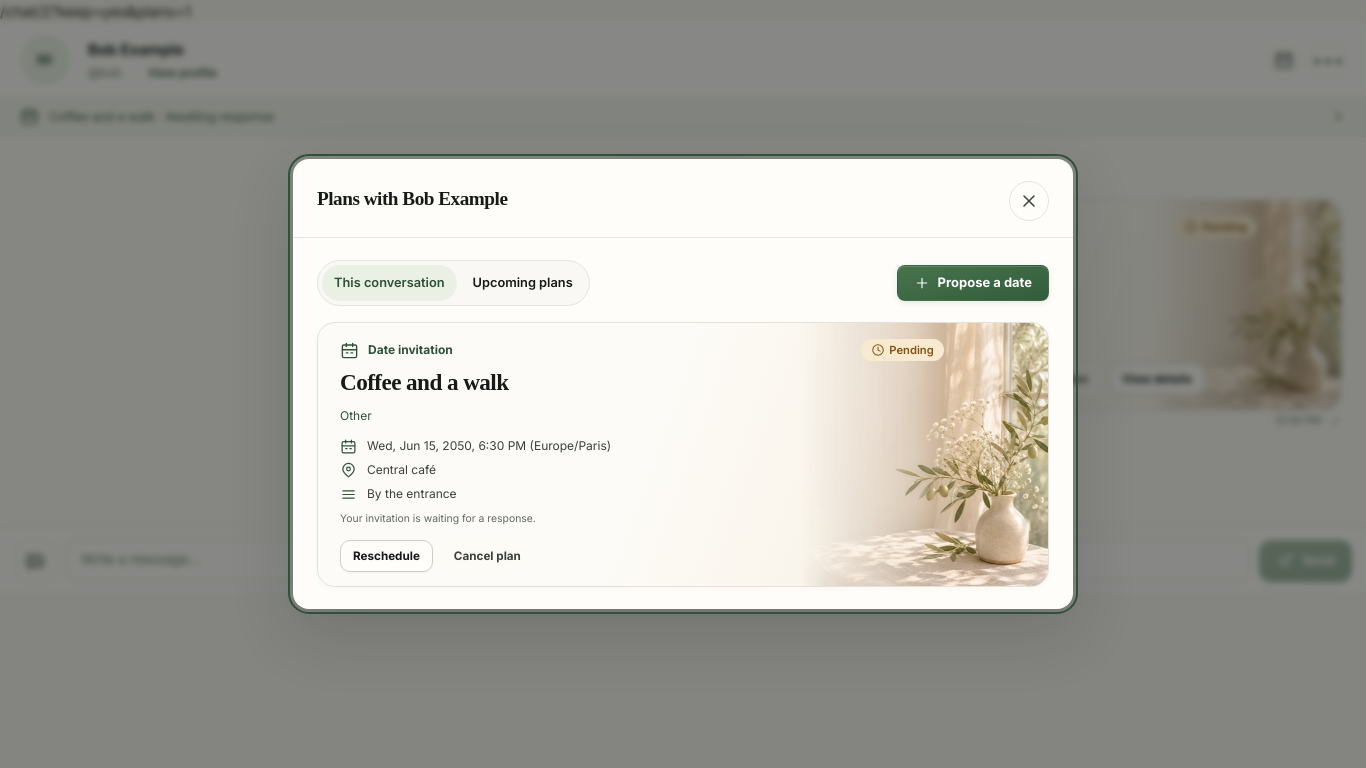
Scenario: date-message buttons open, close and reopen the planner (notification link: true)
Expected: the dialog "Plans with Bob Example" is shown, [293,159,1073,609]
Click the button named "Close dialog" at (1029, 201), box [1009,181,1049,221]
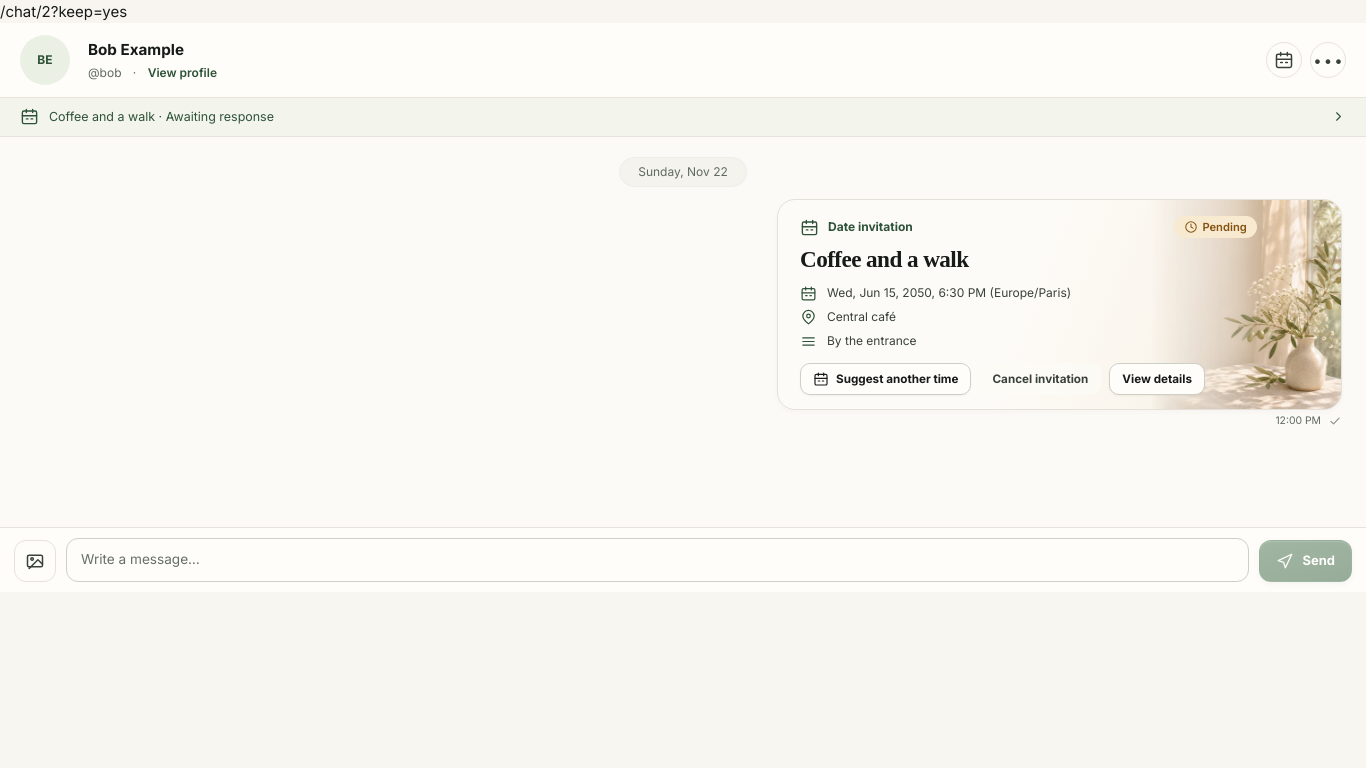
Click the button "View details" at (1157, 379), box [1109,363,1205,395]
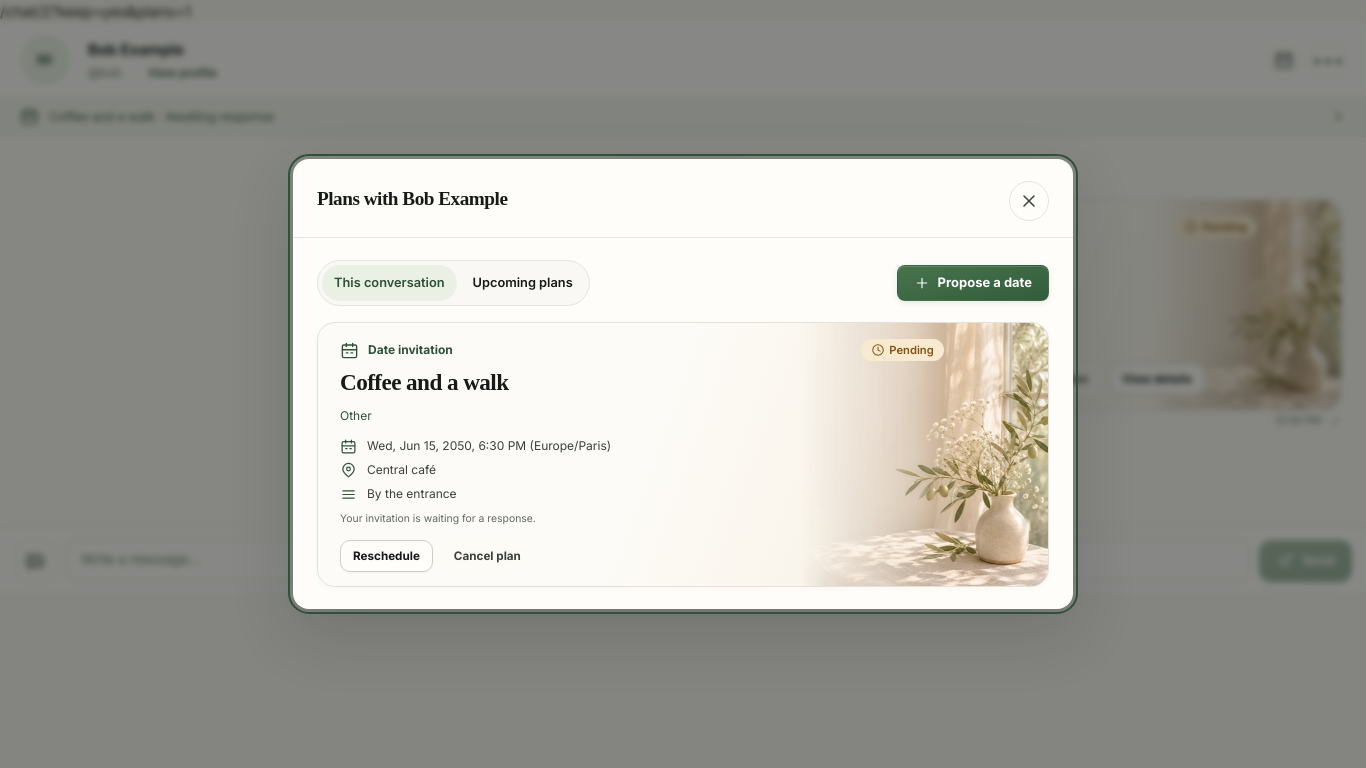
Now the dialog "Plans with Bob Example" is shown, box [293,159,1073,609]
Now the text "/chat/2?keep=yes&plans=1" is shown, box [0,2,191,21]
Click the button named "Close dialog" at (1029, 201), box [1009,181,1049,221]
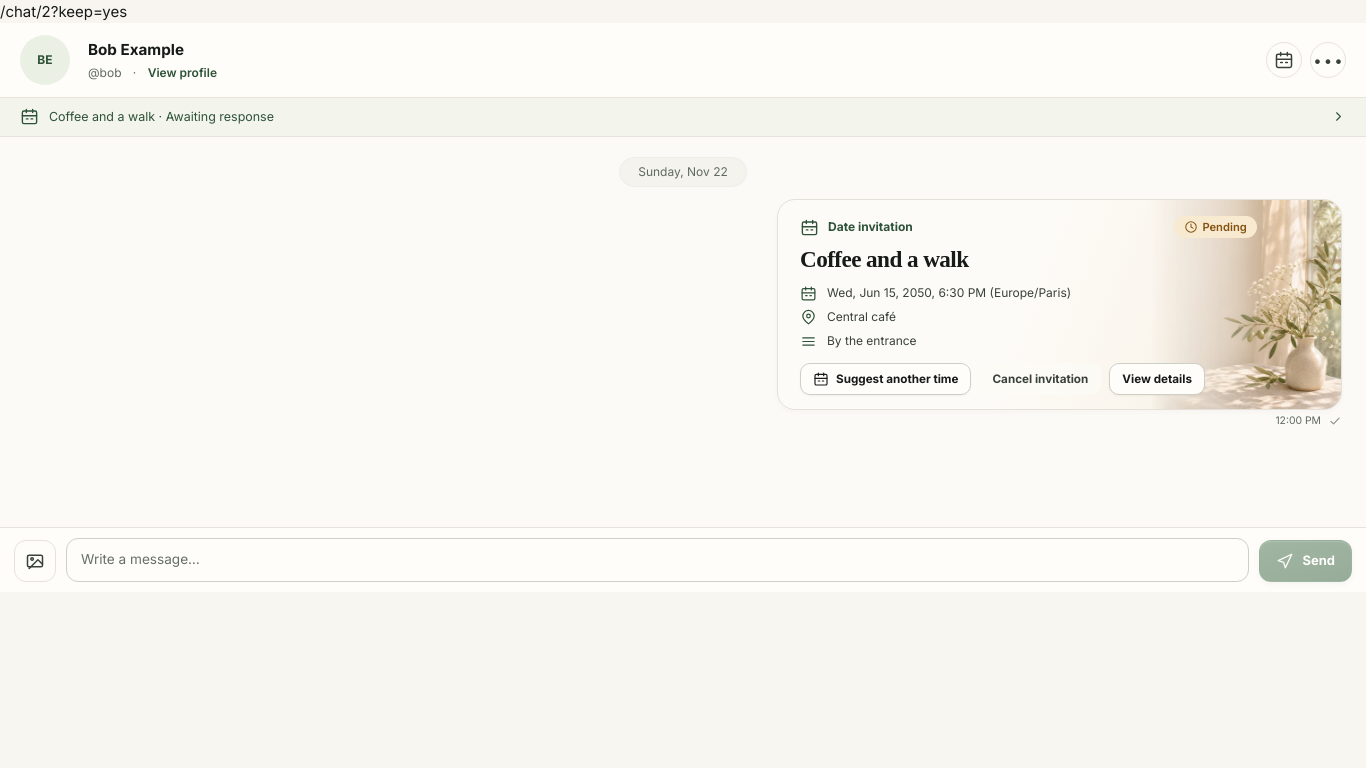
Expected: the text "/chat/2?keep=yes" is shown, [0,2,127,21]
Now the dialog is gone
Click the button "View details" at (1157, 379), box [1109,363,1205,395]
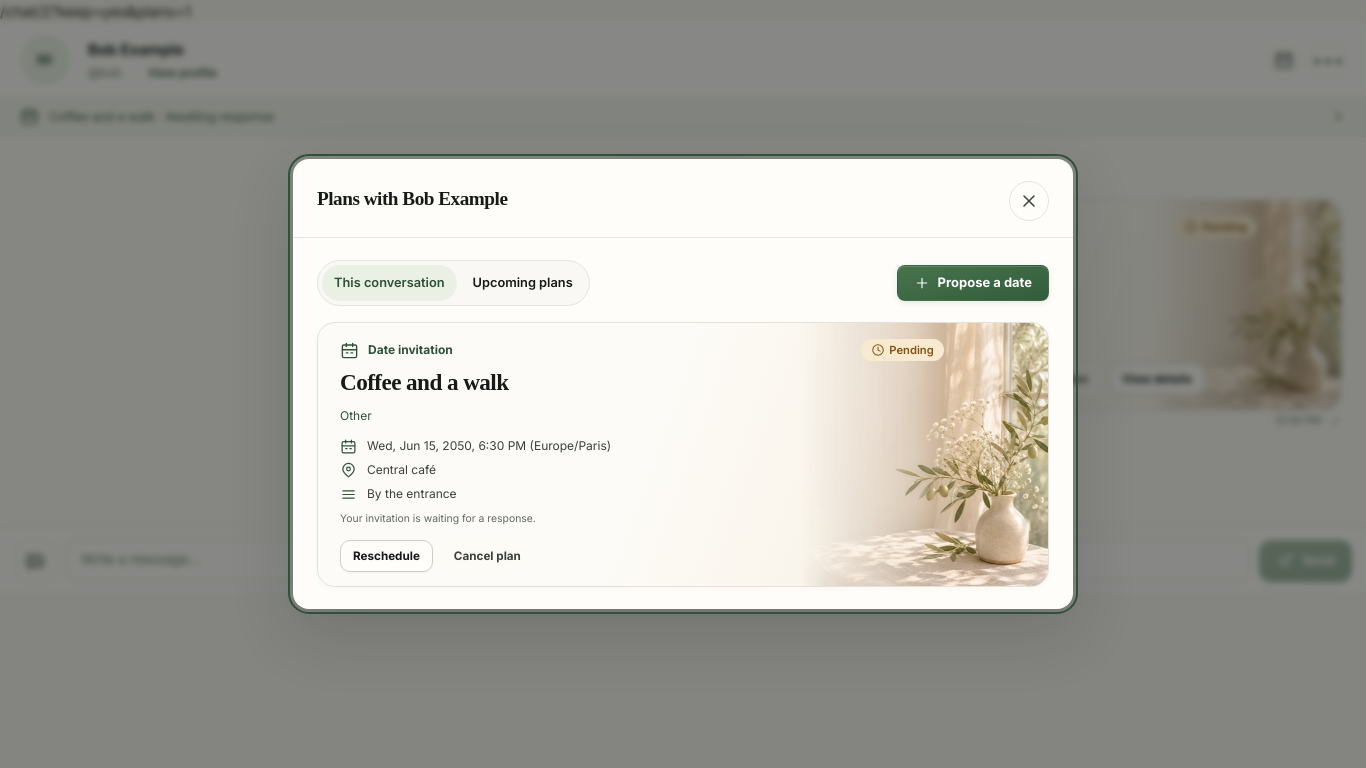
Now the dialog "Plans with Bob Example" is shown, box [293,159,1073,609]
